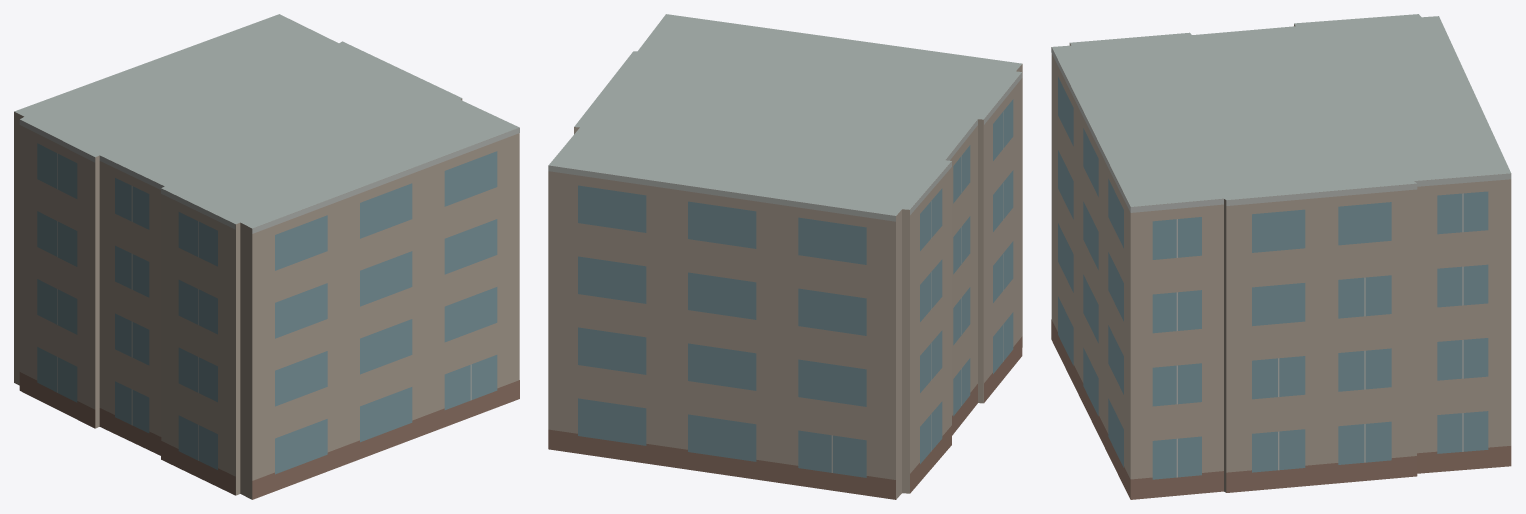
Rendered from survey-upis-33011916.glb.
3 views of the same model, side by side, from view 1: azimuth 30°, elevation 25°; view 2: azimuth 150°, elevation 25°; view 3: azimuth 270°, elevation 25° (orthographic). The views are drawn at different scales.
Parts seen in each view (by area): view 1: survey-upis-33011916.tmp; view 2: survey-upis-33011916.tmp; view 3: survey-upis-33011916.tmp.
Part boxes in pixels (bbox=[...]): survey-upis-33011916.tmp: bbox=[14, 14, 519, 499]; survey-upis-33011916.tmp: bbox=[548, 14, 1022, 499]; survey-upis-33011916.tmp: bbox=[1051, 14, 1511, 499].
Size of the model in its own units: 17.12 by 12.1 by 17.23.
